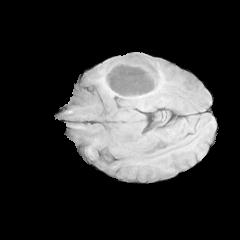glioma: (104, 54, 161, 98)
